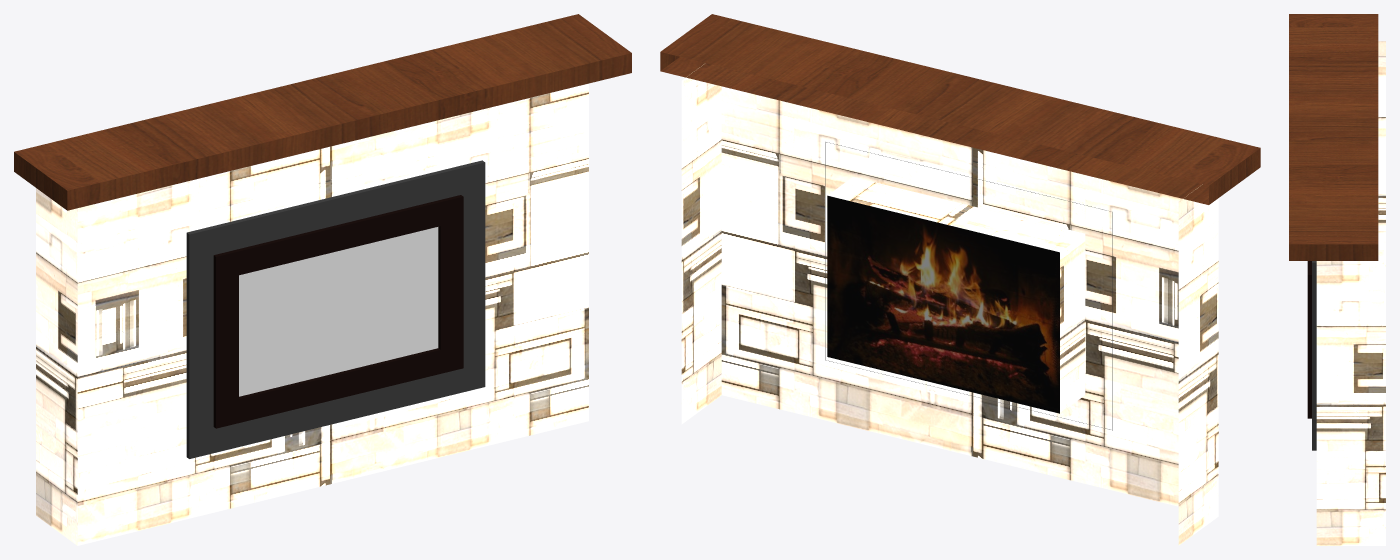
Rendered from Oriental Fireplace.FBX.
3 views of the same model, side by side, from view 1: azimuth 30°, elevation 25°; view 2: azimuth 150°, elevation 25°; view 3: azimuth 270°, elevation 25° (orthographic). The views are drawn at different scales.
Parts seen in each view (by area): view 1: Oriental_Fireplace; view 2: Oriental_Fireplace; view 3: Oriental_Fireplace.
Part boxes in pixels (bbox=[...]): Oriental_Fireplace: bbox=[14, 14, 631, 545]; Oriental_Fireplace: bbox=[660, 14, 1260, 545]; Oriental_Fireplace: bbox=[1289, 14, 1385, 545].
Bounding box in the file's own units: 222 × 140 × 39.39.
6 materials, 3 textured.
